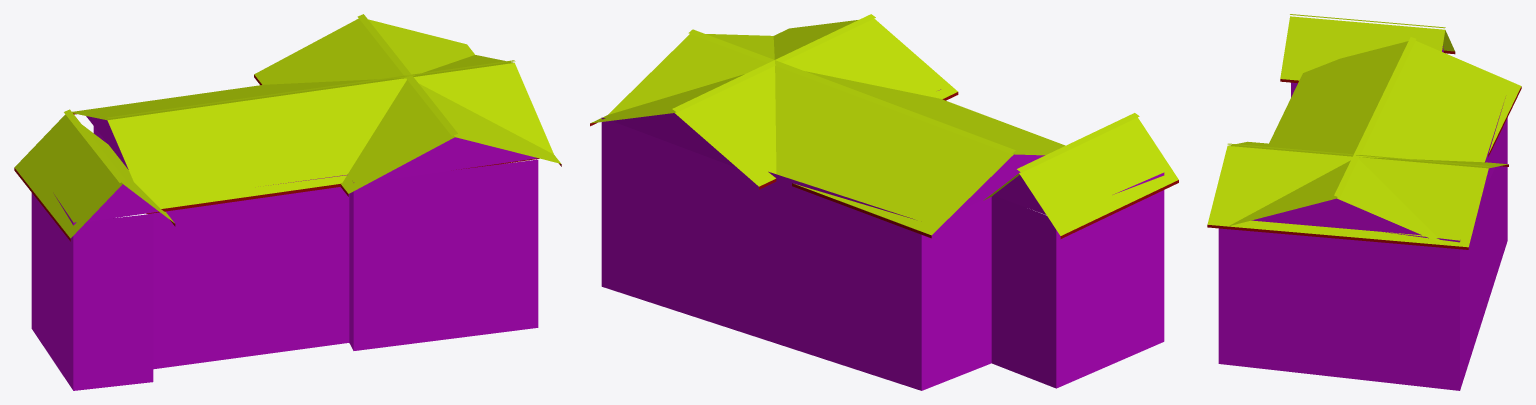
Rendered from rmc_71.glb.
The picture shows the model from 3 angles, left to right: view 1: azimuth 30°, elevation 25°; view 2: azimuth 150°, elevation 25°; view 3: azimuth 270°, elevation 25°; orthographic projection. The views are drawn at different scales.
Visible parts, largest first — view 1: rmc_71; view 2: rmc_71; view 3: rmc_71.
Boxes of the visible parts, x1=… form: rmc_71: x1=14, y1=14, x2=561, y2=390; rmc_71: x1=590, y1=14, x2=1178, y2=390; rmc_71: x1=1207, y1=14, x2=1521, y2=390.
Size of the model in its own units: 20.41 by 8.31 by 12.66.
